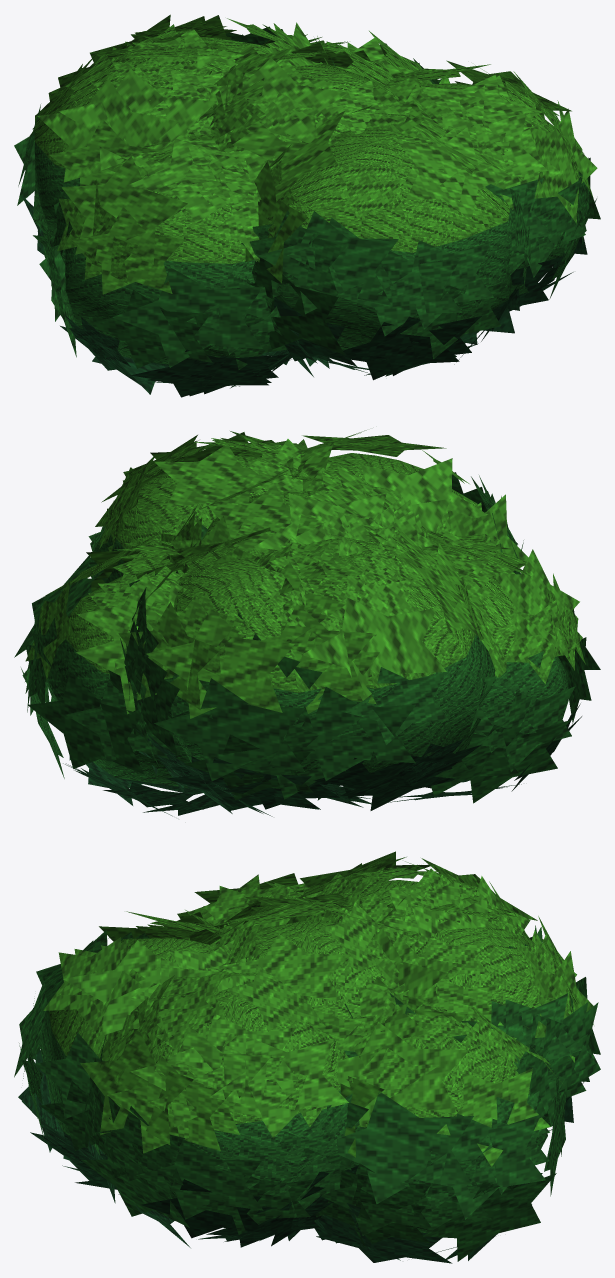
The model's file is SM_Woodland_Bush.fbx.
3 renders of one model, top to bottom at view 1: azimuth 30°, elevation 25°; view 2: azimuth 150°, elevation 25°; view 3: azimuth 270°, elevation 25°, orthographic. The views are drawn at different scales.
Visible parts, largest first — view 1: SM_Woodland_Bush; view 2: SM_Woodland_Bush; view 3: SM_Woodland_Bush.
Boxes of the visible parts, x1,y1,x2,y2 form: SM_Woodland_Bush: [14, 14, 600, 397]; SM_Woodland_Bush: [14, 430, 600, 816]; SM_Woodland_Bush: [14, 851, 600, 1263].
Size of the model in its own units: 194 by 194 by 109.
1 material, 1 textured.
